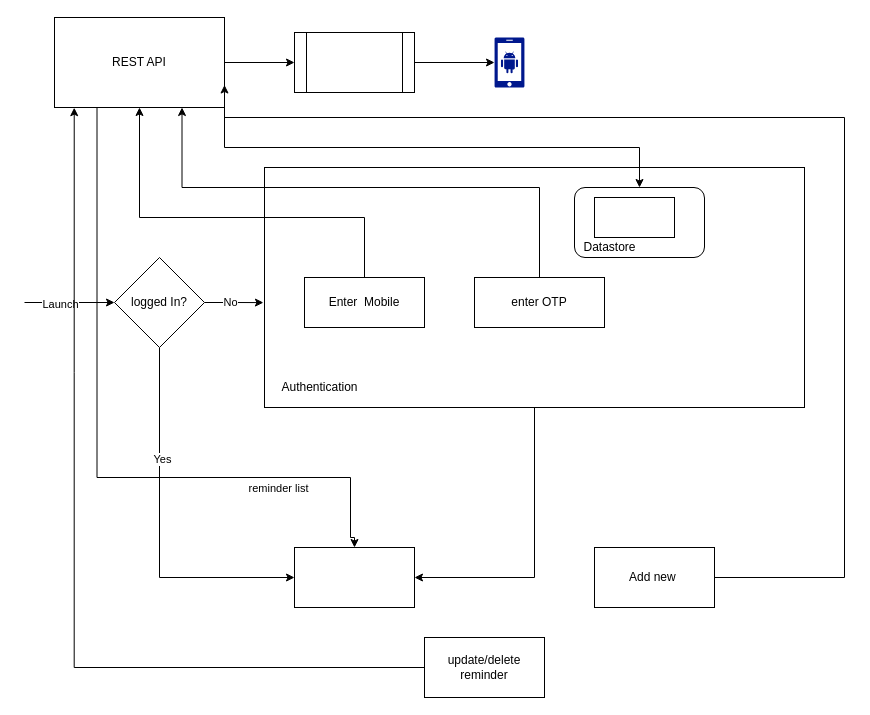
Some shapes in this 870 by 715 pixel diagram are drawn without their labels. The centre of each missing label's shape, as x and y in pixels:
Auth token: [634,217]
Home Page: [354,577]
sms api: [354,62]
